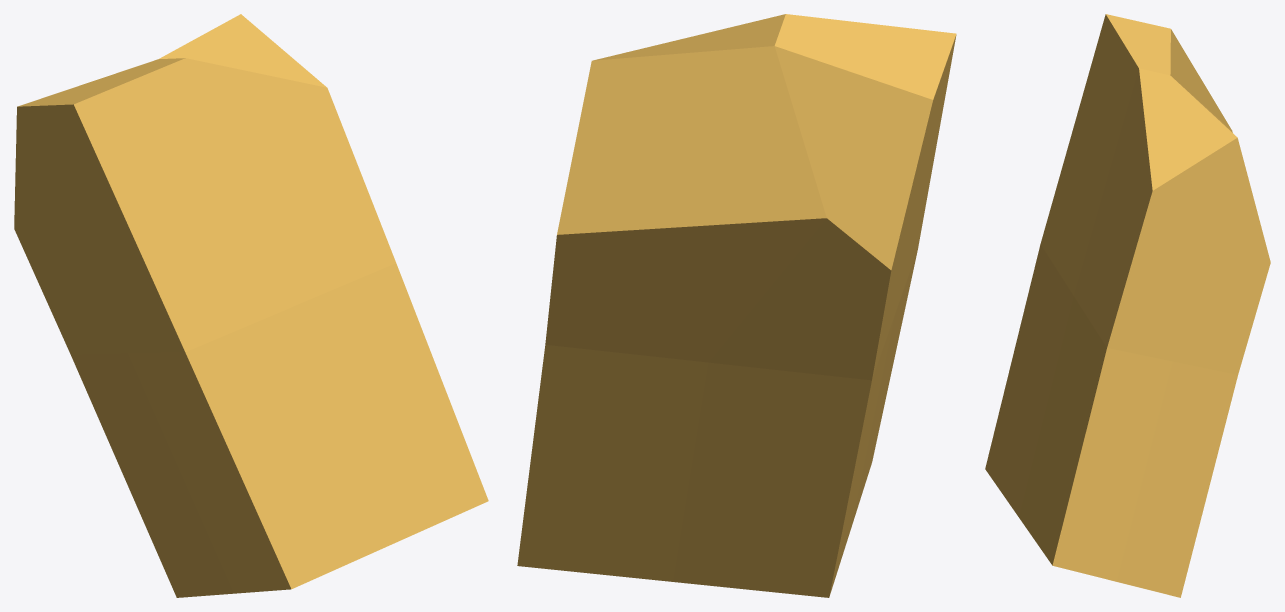
The model's file is Boat skeleton broken column8.fbx.
The picture shows the model from 3 angles, left to right: view 1: azimuth 30°, elevation 25°; view 2: azimuth 150°, elevation 25°; view 3: azimuth 270°, elevation 25°; orthographic projection. The views are drawn at different scales.
Parts seen in each view (by area): view 1: Broken columns.007; view 2: Broken columns.007; view 3: Broken columns.007.
Part boxes in pixels (bbox=[...]): Broken columns.007: bbox=[14, 14, 488, 597]; Broken columns.007: bbox=[517, 14, 956, 597]; Broken columns.007: bbox=[985, 14, 1270, 597].
Size of the model in its own units: 8.22 by 10.25 by 6.01.
